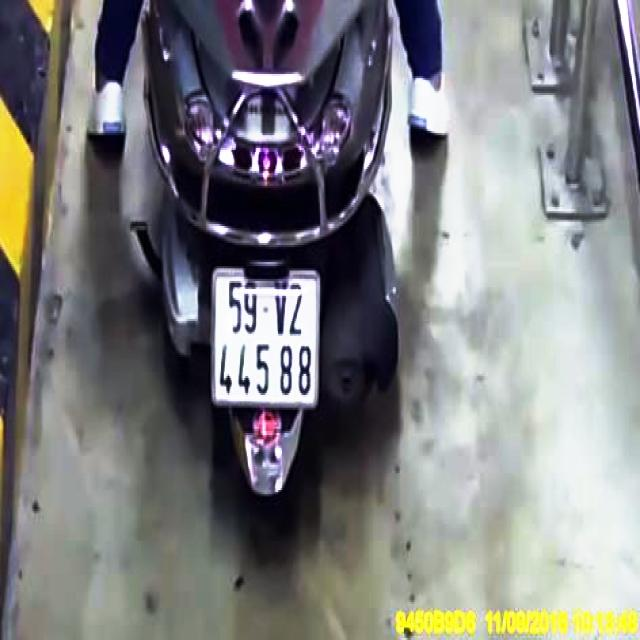license_plate: (213, 271, 320, 406)
